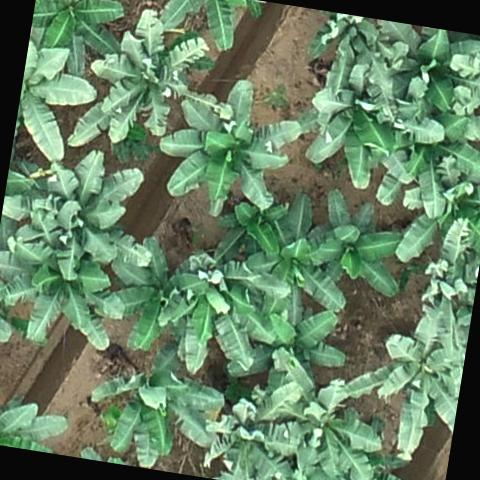Banana-plant: (73, 0, 208, 164), (156, 68, 300, 216), (218, 185, 357, 327), (302, 56, 448, 185), (11, 147, 140, 276), (370, 298, 472, 460), (92, 343, 225, 465), (0, 233, 129, 356), (263, 362, 391, 480), (98, 234, 207, 361), (158, 246, 264, 374), (390, 144, 480, 285), (303, 188, 407, 301), (371, 20, 480, 127), (197, 369, 301, 480), (13, 38, 98, 164), (250, 305, 352, 395), (29, 0, 129, 67)
